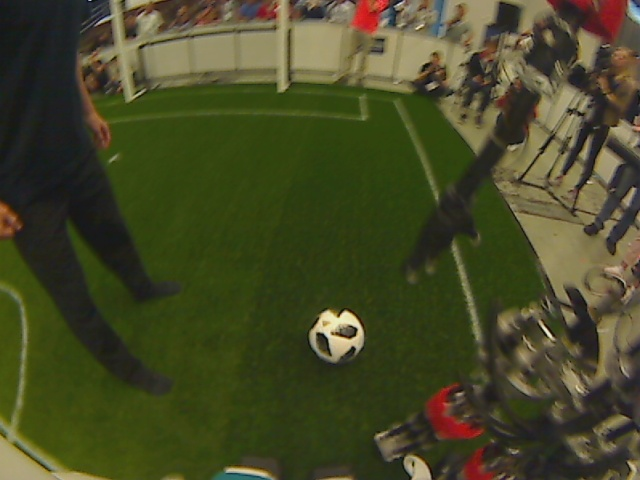ball: (309, 308, 366, 367)
